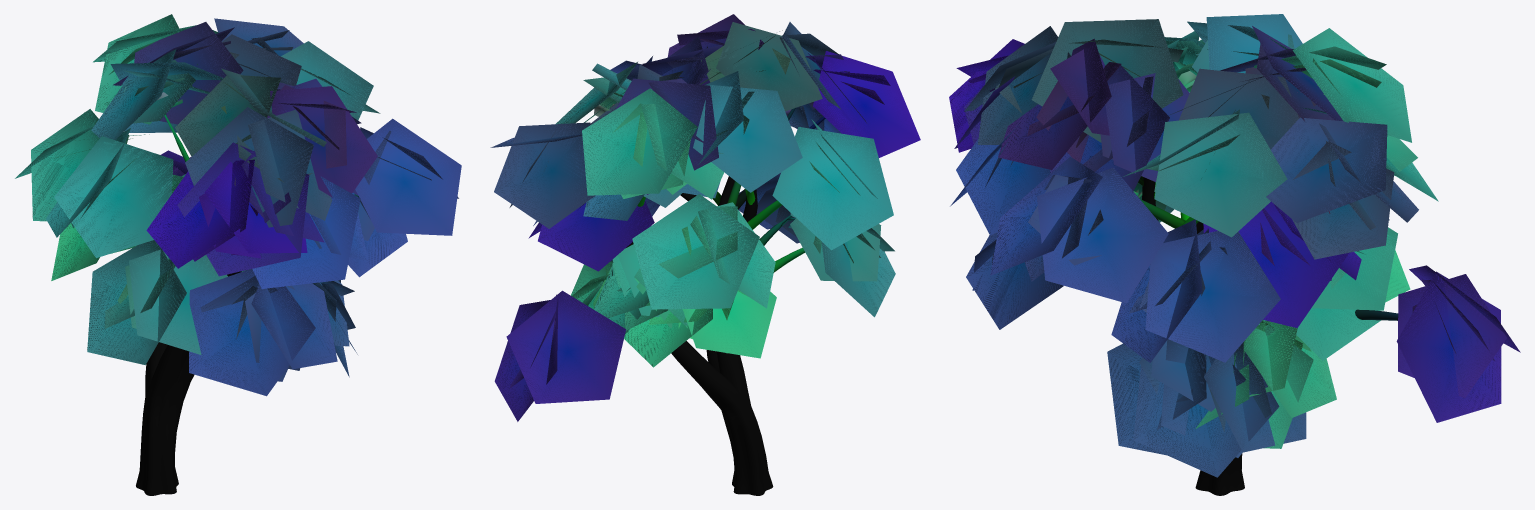
File: arbol3.fbx
3 views of the same model, side by side, from view 1: azimuth 30°, elevation 25°; view 2: azimuth 150°, elevation 25°; view 3: azimuth 270°, elevation 25° (orthographic). The views are drawn at different scales.
Parts seen in each view (by area): view 1: Tree_2, Tree_0; view 2: Tree_2, Tree_0; view 3: Tree_2, Tree_0.
Boxes of the visible parts, x1,y1,x2,y2 form: Tree_2: (15, 14, 461, 396); Tree_0: (136, 114, 358, 495); Tree_2: (490, 14, 920, 421); Tree_0: (626, 108, 825, 495); Tree_2: (949, 14, 1520, 477); Tree_0: (1138, 176, 1398, 495).
Size of the model in its own units: 258 by 299 by 319.
